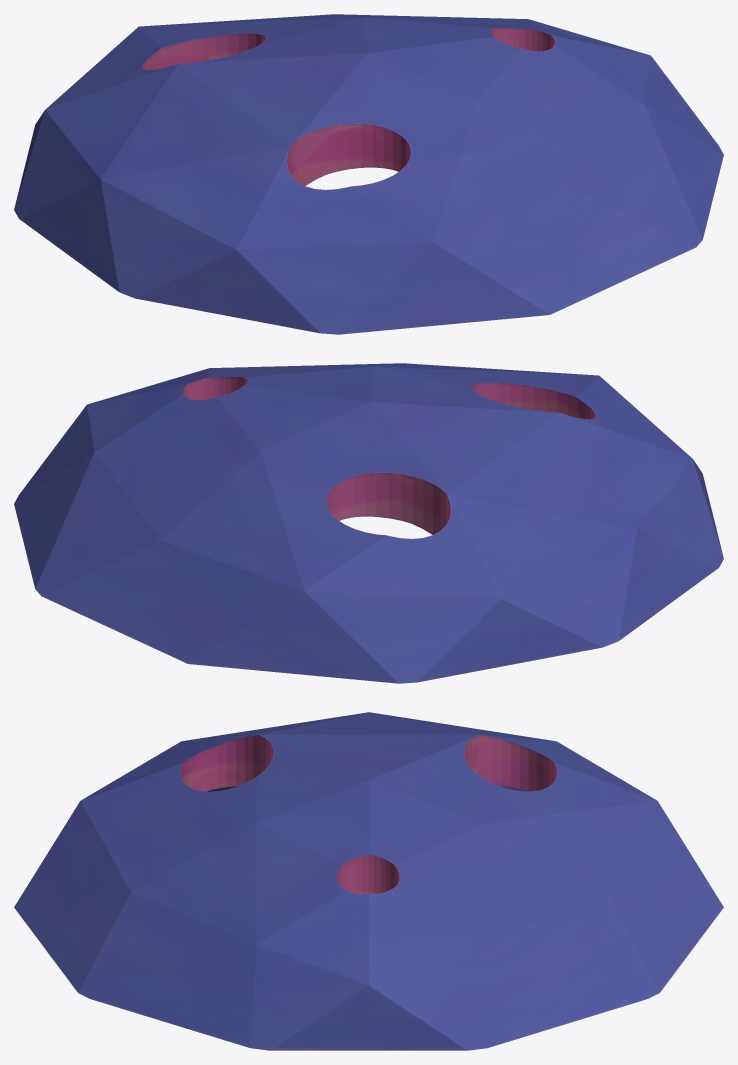
File: MaskModelRotated7.fbx
The picture shows the model from 3 angles, top to bottom: view 1: azimuth 30°, elevation 25°; view 2: azimuth 150°, elevation 25°; view 3: azimuth 270°, elevation 25°; orthographic projection. The views are drawn at different scales.
Visible parts, largest first — view 1: Mask; view 2: Mask; view 3: Mask.
Boxes of the visible parts, x1,y1,x2,y2 form: Mask: [14, 14, 723, 334]; Mask: [14, 363, 723, 683]; Mask: [14, 712, 723, 1050].
Bounding box in the file's own units: 500 × 98.64 × 478.
